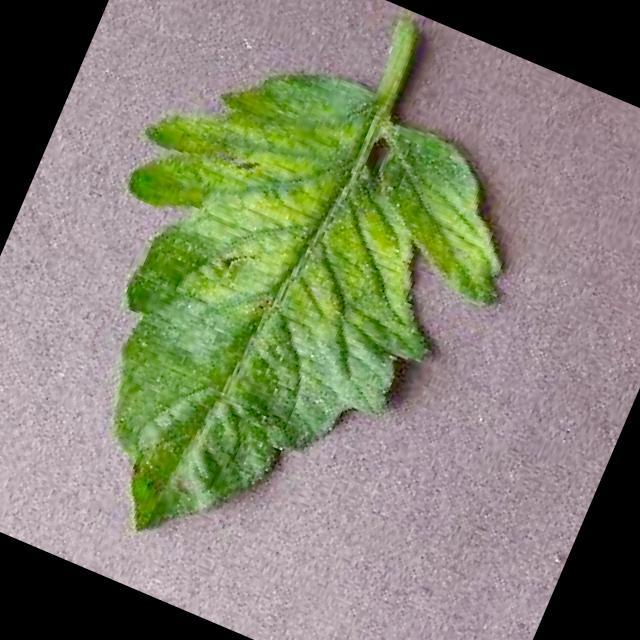Tomato mosaic virus leaf: (0, 17, 560, 634)
